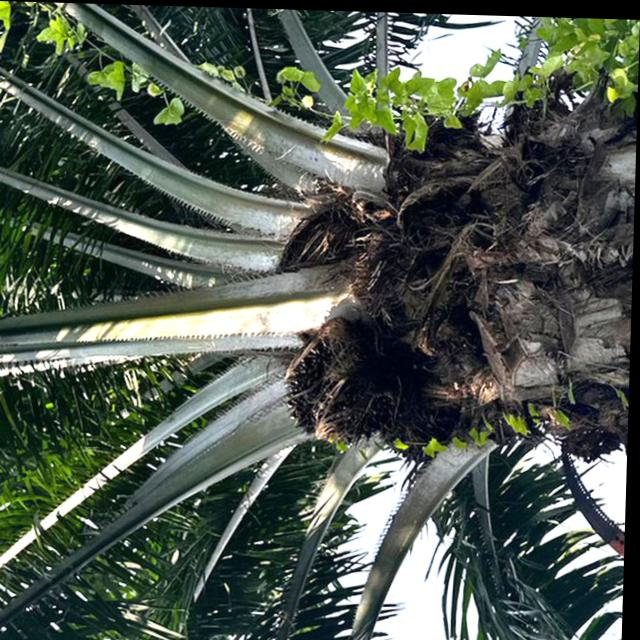unripe: (274, 305, 420, 455)
